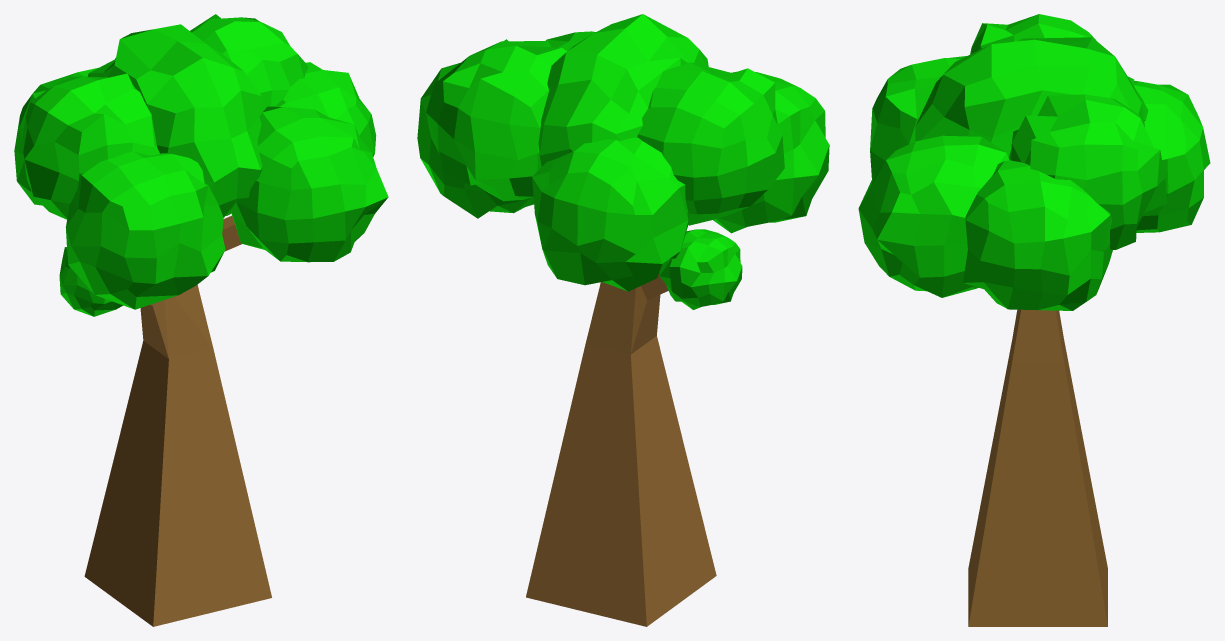
File: Tree.fbx
3 renders of one model, left to right at view 1: azimuth 30°, elevation 25°; view 2: azimuth 150°, elevation 25°; view 3: azimuth 270°, elevation 25°, orthographic.
Visible parts, largest first — view 1: Cube.006, Plane; view 2: Cube.006, Plane; view 3: Cube.006, Plane.
Part boxes in pixels (x1,y1,x2,y2): Cube.006: (14, 14, 388, 316); Plane: (84, 215, 271, 626); Cube.006: (417, 14, 829, 309); Plane: (526, 271, 716, 626); Cube.006: (858, 14, 1210, 310); Plane: (968, 309, 1107, 626).
Size of the model in its own units: 1283 by 1981 by 1136.
